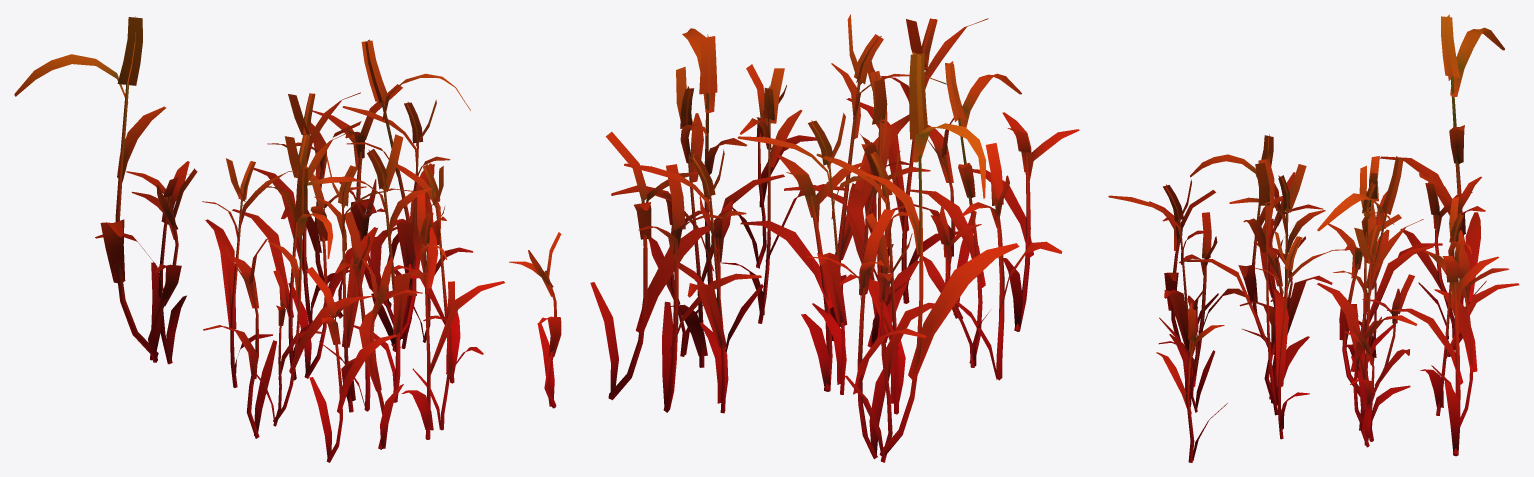
Rendered from SM_Wheat_2.fbx.
3 renders of one model, left to right at view 1: azimuth 30°, elevation 25°; view 2: azimuth 150°, elevation 25°; view 3: azimuth 270°, elevation 25°, orthographic. The views are drawn at different scales.
Parts seen in each view (by area): view 1: SM_Wheat_2; view 2: SM_Wheat_2; view 3: SM_Wheat_2.
Boxes of the visible parts, x1,y1,x2,y2 form: SM_Wheat_2: (14,16,561,462); SM_Wheat_2: (590,14,1079,462); SM_Wheat_2: (1108,14,1519,462).
Size of the model in its own units: 1.46 by 1.34 by 1.53.
